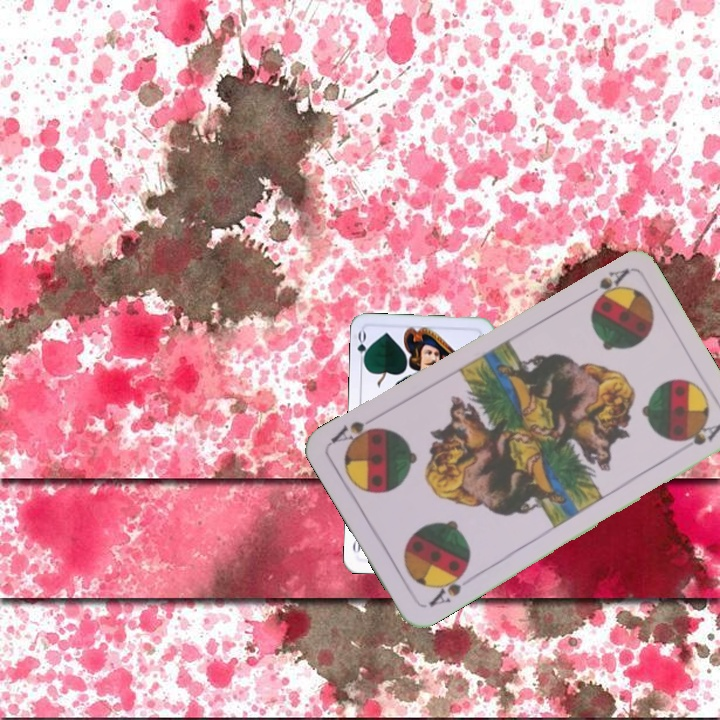GO: (353, 328, 372, 368)
SA: (424, 564, 476, 610), (577, 264, 631, 303)
